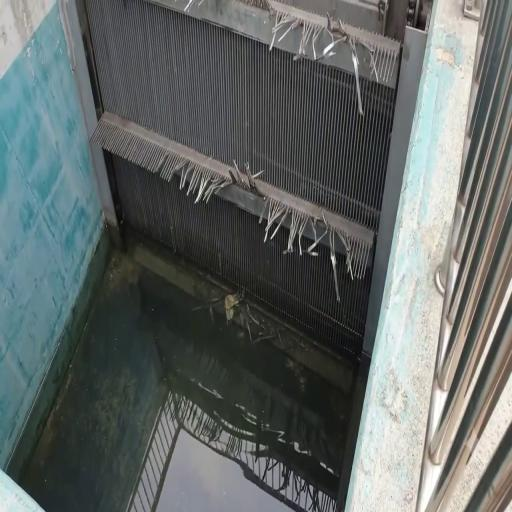rake_broken: (252, 190, 319, 253), (313, 204, 355, 297), (301, 13, 349, 77), (262, 7, 319, 54), (346, 34, 382, 107), (173, 0, 253, 27), (223, 158, 264, 202), (181, 171, 227, 210), (153, 147, 196, 188), (247, 0, 282, 36)
